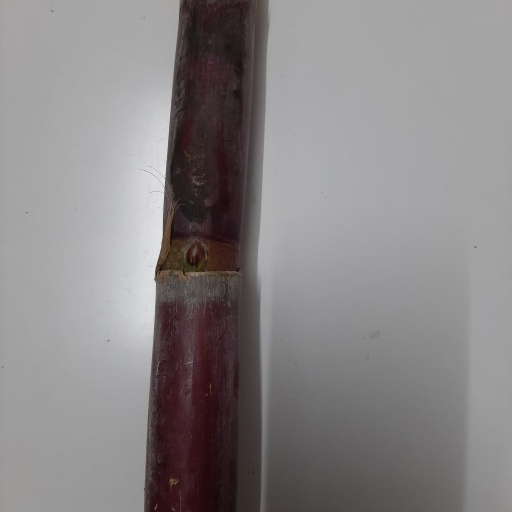Bud: (184, 241, 207, 269)
